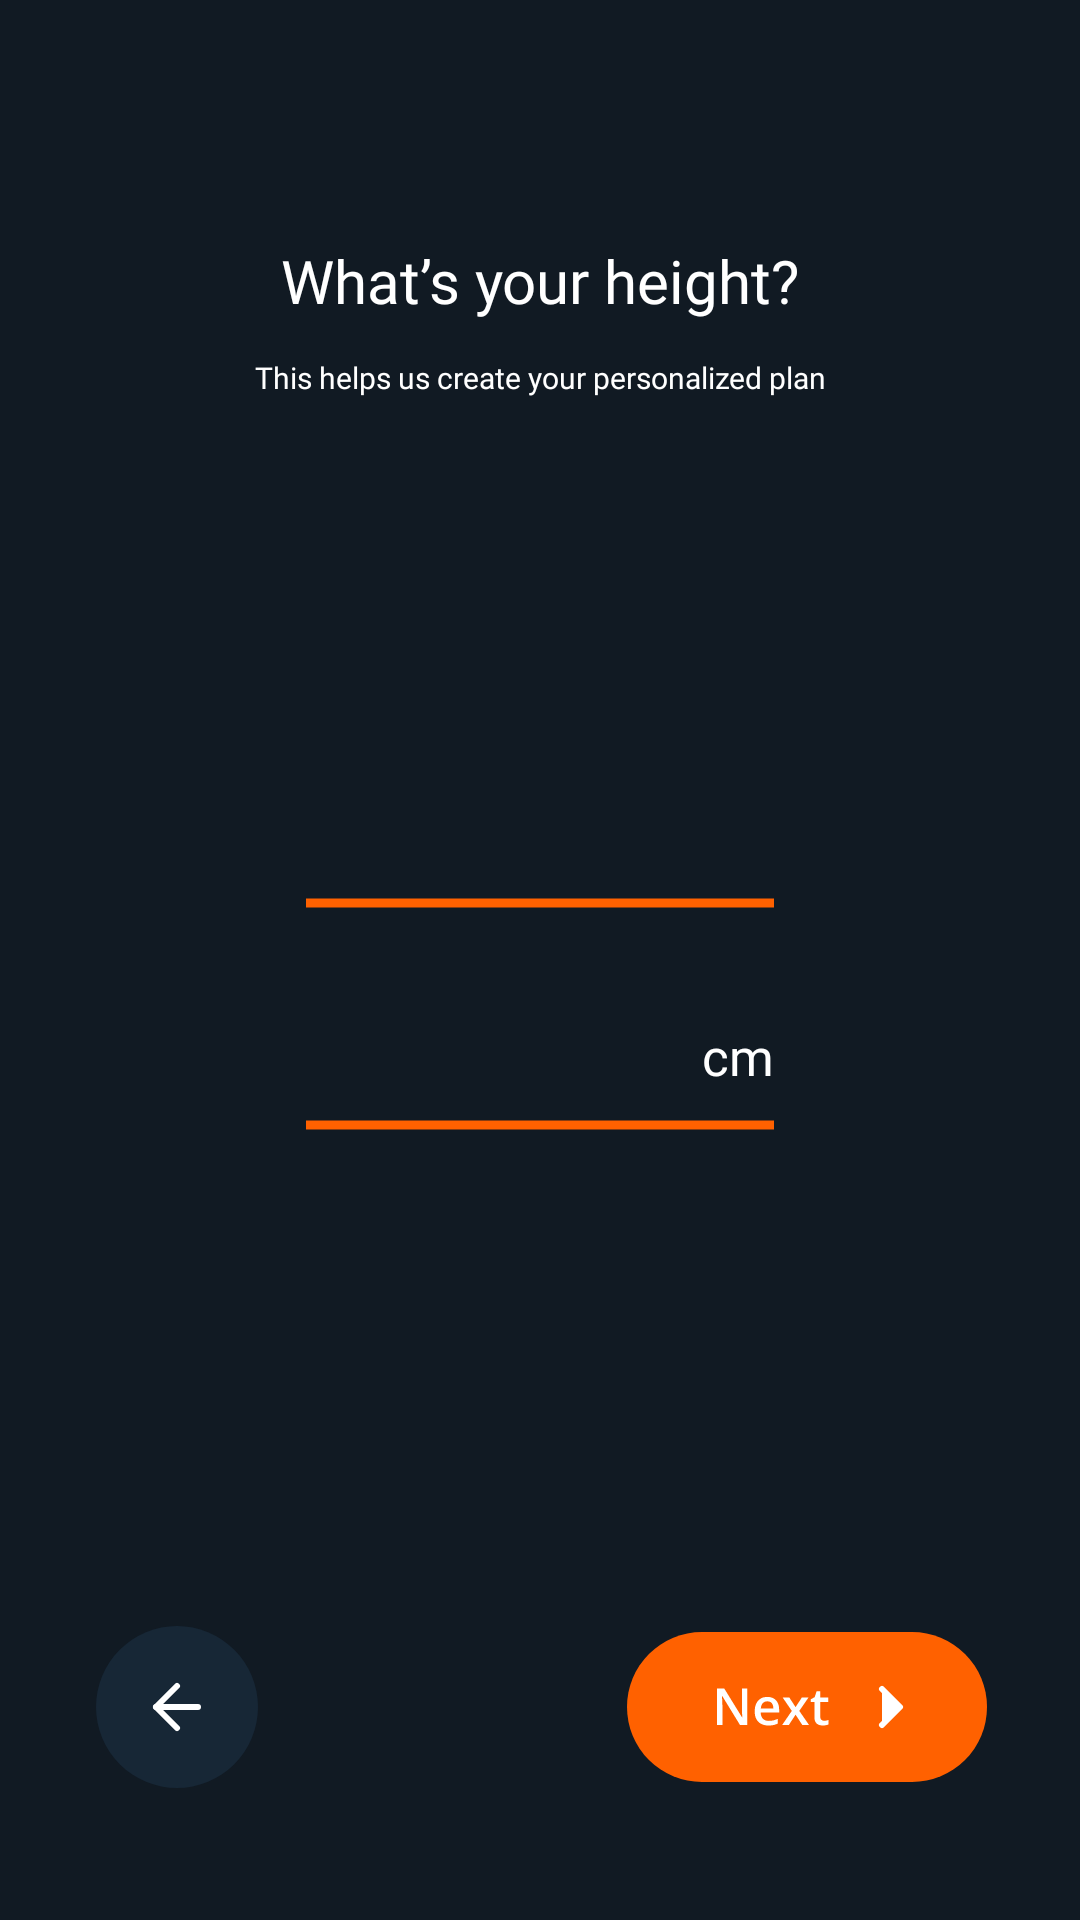

Named icons in this screenshot (1080px x 1920px) and their centers, (x,y):
back: (177,1707)
